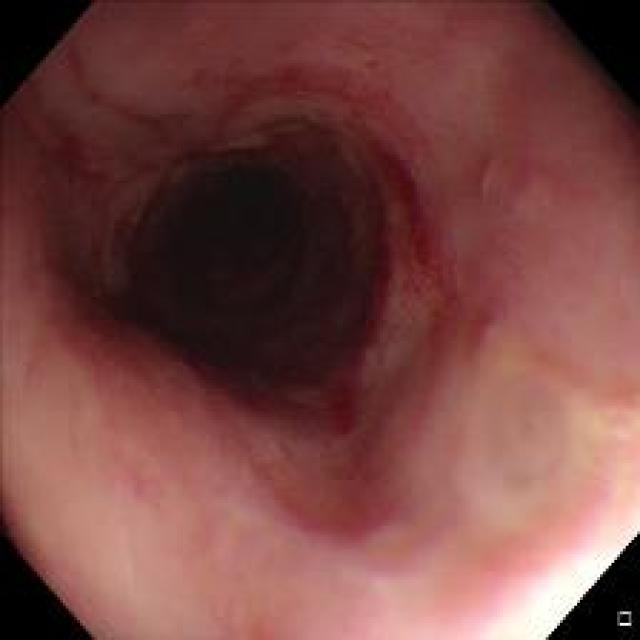blur: (1, 345, 635, 635)
contrast: (128, 130, 395, 406)
saturation: (472, 546, 625, 632)
